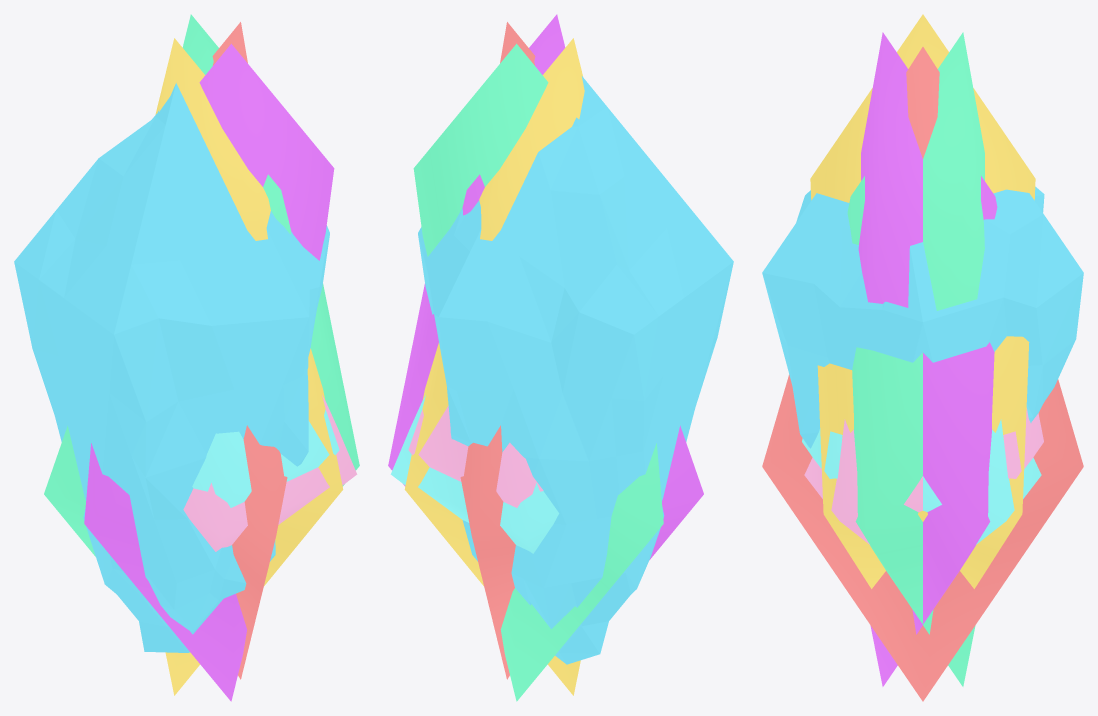
File: crystals_multi_faceted.glb
3 views of the same model, side by side, from view 1: azimuth 30°, elevation 25°; view 2: azimuth 150°, elevation 25°; view 3: azimuth 270°, elevation 25° (orthographic).
Parts seen in each view (by area): view 1: CrystalShard_01, CrystalShard_02, CrystalShard_04, CrystalShard_03, CrystalShard_05, CrystalShard_07, CrystalShard_06; view 2: CrystalShard_01, CrystalShard_03, CrystalShard_04, CrystalShard_02, CrystalShard_05, CrystalShard_06, CrystalShard_07; view 3: CrystalShard_01, CrystalShard_03, CrystalShard_02, CrystalShard_05, CrystalShard_04, CrystalShard_07, CrystalShard_06.
Boxes of the visible parts, x1,y1,x2,y2 form: CrystalShard_01: (14, 83, 329, 652); CrystalShard_02: (84, 43, 334, 701); CrystalShard_04: (155, 38, 343, 695); CrystalShard_03: (44, 14, 359, 556); CrystalShard_05: (212, 22, 287, 679); CrystalShard_07: (183, 395, 357, 551); CrystalShard_06: (192, 409, 339, 507); CrystalShard_01: (418, 76, 733, 664); CrystalShard_03: (413, 43, 663, 701); CrystalShard_04: (404, 38, 584, 695); CrystalShard_02: (388, 14, 703, 560); CrystalShard_05: (460, 22, 535, 679); CrystalShard_06: (390, 395, 559, 553); CrystalShard_07: (408, 405, 543, 507); CrystalShard_01: (762, 186, 1083, 448); CrystalShard_03: (847, 32, 984, 686); CrystalShard_02: (858, 32, 997, 686); CrystalShard_05: (762, 47, 1083, 701); CrystalShard_04: (810, 14, 1035, 588); CrystalShard_07: (804, 408, 1043, 544); CrystalShard_06: (802, 419, 1041, 544).
Size of the model in its own units: 1.7 by 4.02 by 1.79.
